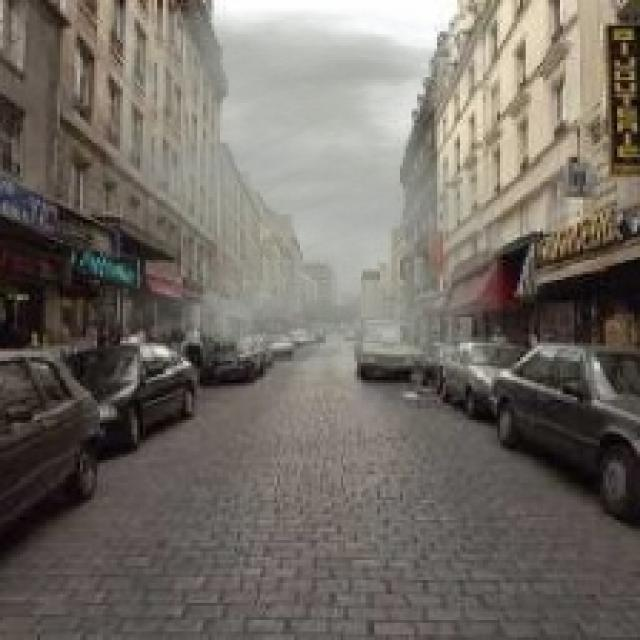Smoke: (106, 9, 503, 372)
